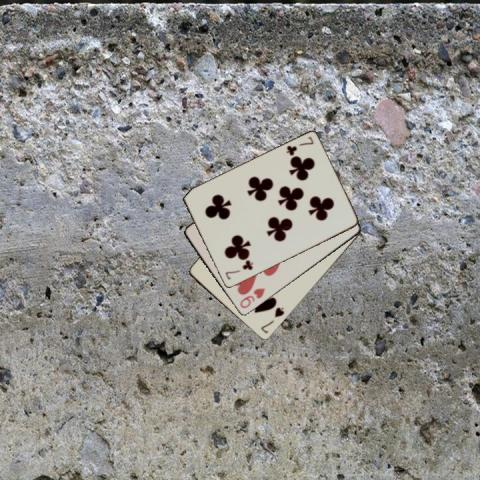7c: (222, 258, 254, 281), (283, 134, 315, 157)
7s: (258, 304, 286, 335)
9h: (236, 285, 266, 310)
